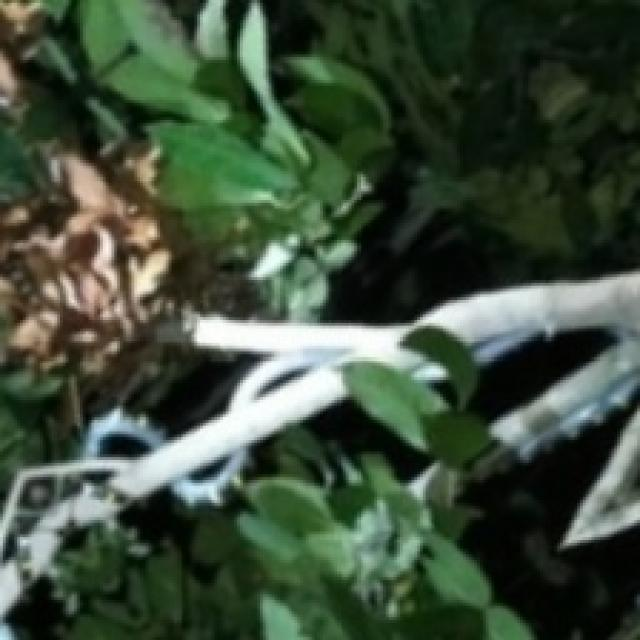mangrove cat snake: (521, 382, 640, 456), (225, 352, 334, 409), (171, 449, 246, 507), (83, 406, 164, 458), (472, 336, 536, 366), (414, 365, 440, 382)
